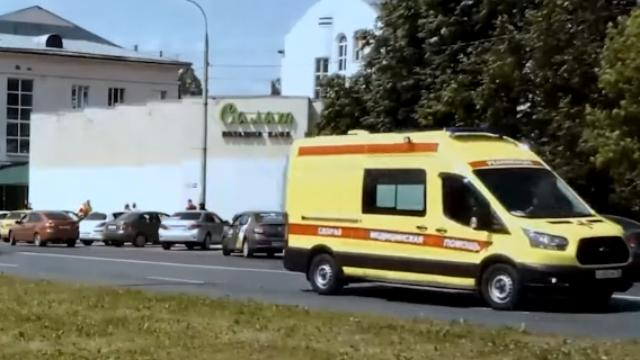intensive care unit: (284, 128, 638, 313)
non emergency car: (221, 212, 287, 259), (160, 211, 226, 252), (9, 211, 82, 248), (104, 213, 171, 248), (79, 211, 127, 246)
